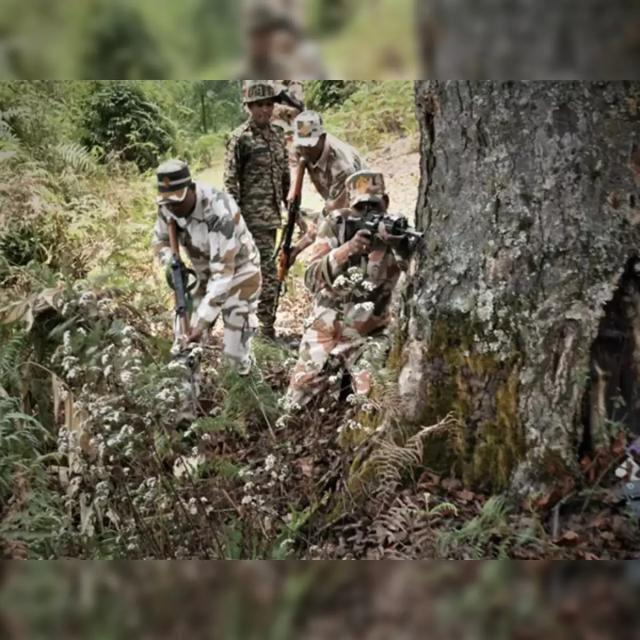Forest: (1, 0, 640, 640)
Militant: (122, 126, 264, 387), (297, 160, 416, 436), (205, 78, 300, 375), (278, 96, 392, 331)
